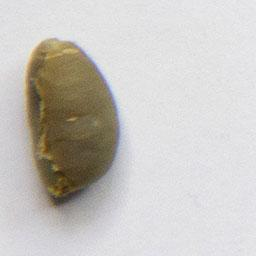peaberry: (23, 33, 126, 203)
